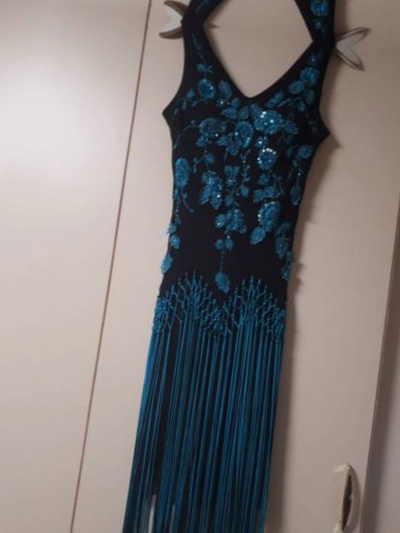Dress: (56, 22, 389, 533), (137, 0, 400, 45)
